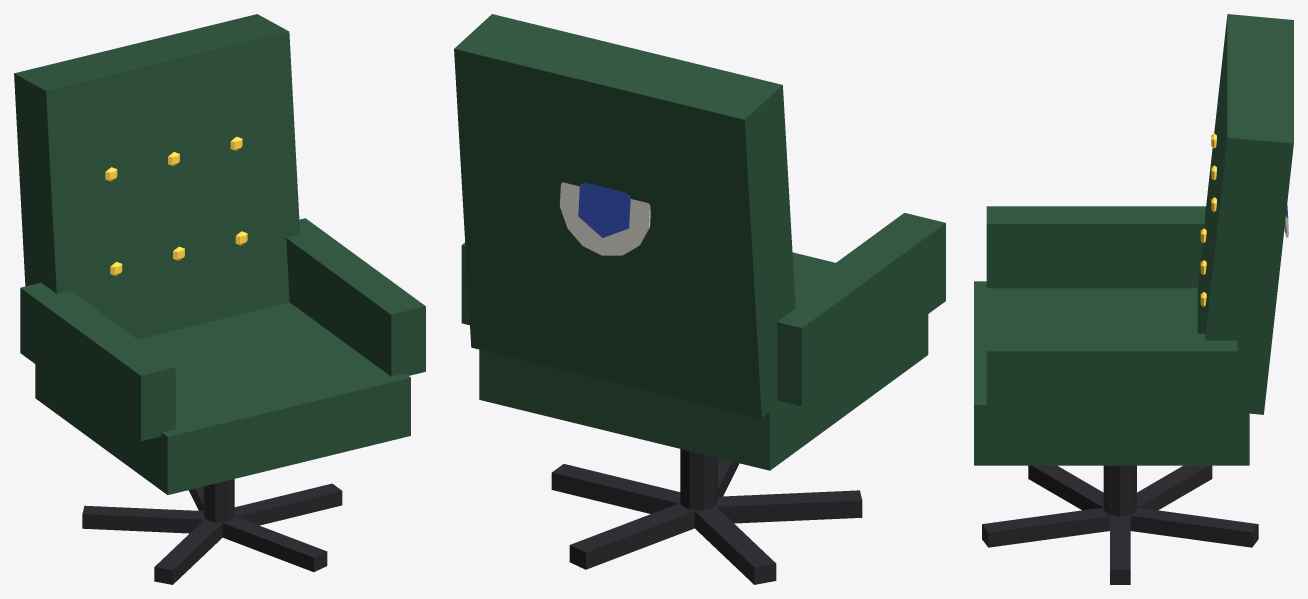
File: comisario_armchair.glb
3 views of the same model, side by side, from view 1: azimuth 30°, elevation 25°; view 2: azimuth 150°, elevation 25°; view 3: azimuth 270°, elevation 25° (orthographic). The views are drawn at different scales.
Parts seen in each view (by area): view 1: back_armchair_leather, seat_armchair_leather, arm_armchair_leather, leg_armchair_foot, post_armchair_foot, button_gold; view 2: back_armchair_leather, seat_armchair_leather, arm_armchair_leather, leg_armchair_foot, sticker_sticker_white, sticker_sticker_blue, post_armchair_foot; view 3: arm_armchair_leather, back_armchair_leather, seat_armchair_leather, leg_armchair_foot, post_armchair_foot, button_gold.
Boxes of the visible parts, box(x1,y1,x2,y2) form: back_armchair_leather: box(14, 14, 300, 339); seat_armchair_leather: box(35, 302, 410, 494); arm_armchair_leather: box(20, 218, 425, 441); leg_armchair_foot: box(82, 483, 342, 584); post_armchair_foot: box(203, 479, 234, 522); button_gold: box(105, 136, 247, 276); back_armchair_leather: box(454, 14, 795, 418); seat_armchair_leather: box(479, 252, 928, 470); arm_armchair_leather: box(461, 213, 945, 406); leg_armchair_foot: box(551, 458, 862, 584); sticker_sticker_white: box(559, 182, 650, 255); sticker_sticker_blue: box(578, 182, 630, 237); post_armchair_foot: box(680, 449, 717, 510); arm_armchair_leather: box(986, 206, 1237, 419); back_armchair_leather: box(1197, 14, 1293, 414); seat_armchair_leather: box(974, 281, 1249, 465); leg_armchair_foot: box(982, 465, 1258, 584); post_armchair_foot: box(1103, 465, 1136, 516); button_gold: box(1200, 133, 1216, 306).
Size of the model in its own units: 0.82 by 1.19 by 0.7655.
